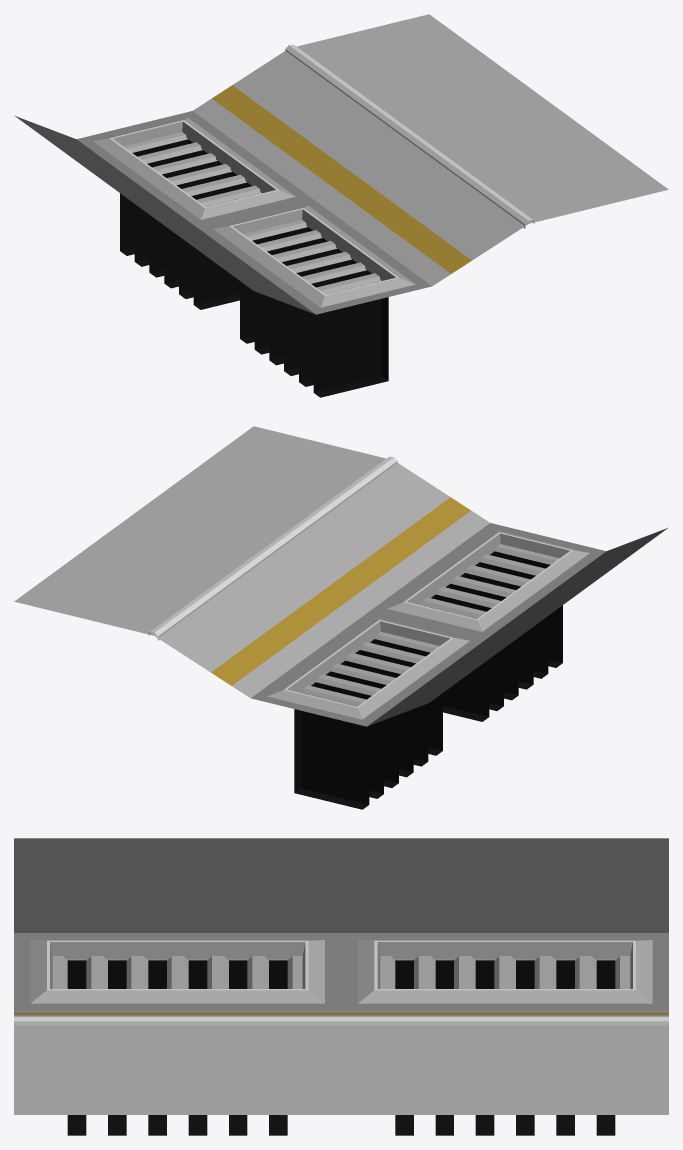
Rendered from Floor_2x2_Vs03.FBX.
The picture shows the model from 3 angles, top to bottom: view 1: azimuth 30°, elevation 25°; view 2: azimuth 150°, elevation 25°; view 3: azimuth 270°, elevation 25°; orthographic projection. The views are drawn at different scales.
Parts seen in each view (by area): view 1: Floor_2x2_Vs03; view 2: Floor_2x2_Vs03; view 3: Floor_2x2_Vs03.
Boxes of the visible parts, x1,y1,x2,y2 form: Floor_2x2_Vs03: (14, 14, 668, 397); Floor_2x2_Vs03: (14, 426, 668, 809); Floor_2x2_Vs03: (14, 838, 668, 1135).
Size of the model in its own units: 200 by 67.03 by 200.
